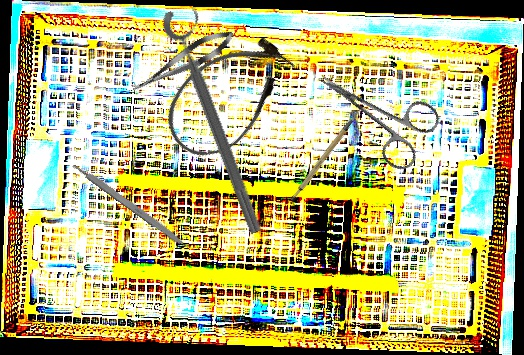Cannula: (149, 19, 308, 173)
Fixation Ring: (158, 1, 281, 238)
Iris Scissors: (302, 45, 446, 176)
Micro Scissor: (127, 23, 239, 100)
Scalpel Handle: (71, 160, 189, 249), (279, 110, 373, 204)
